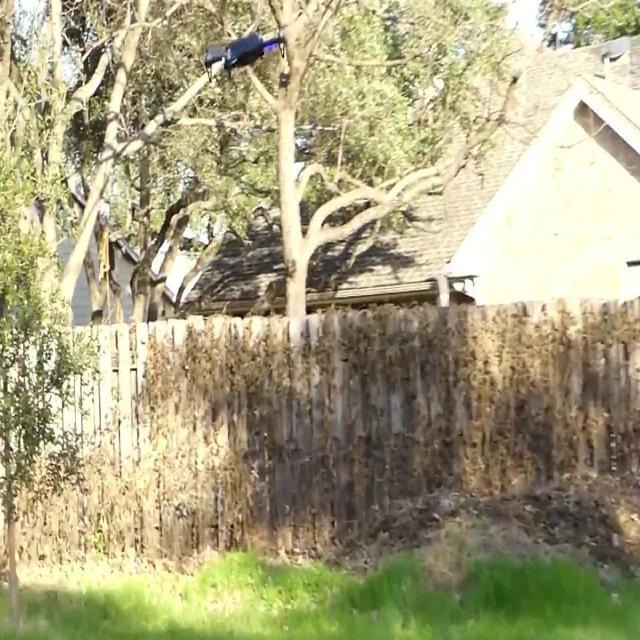UAV: (204, 33, 286, 83)
